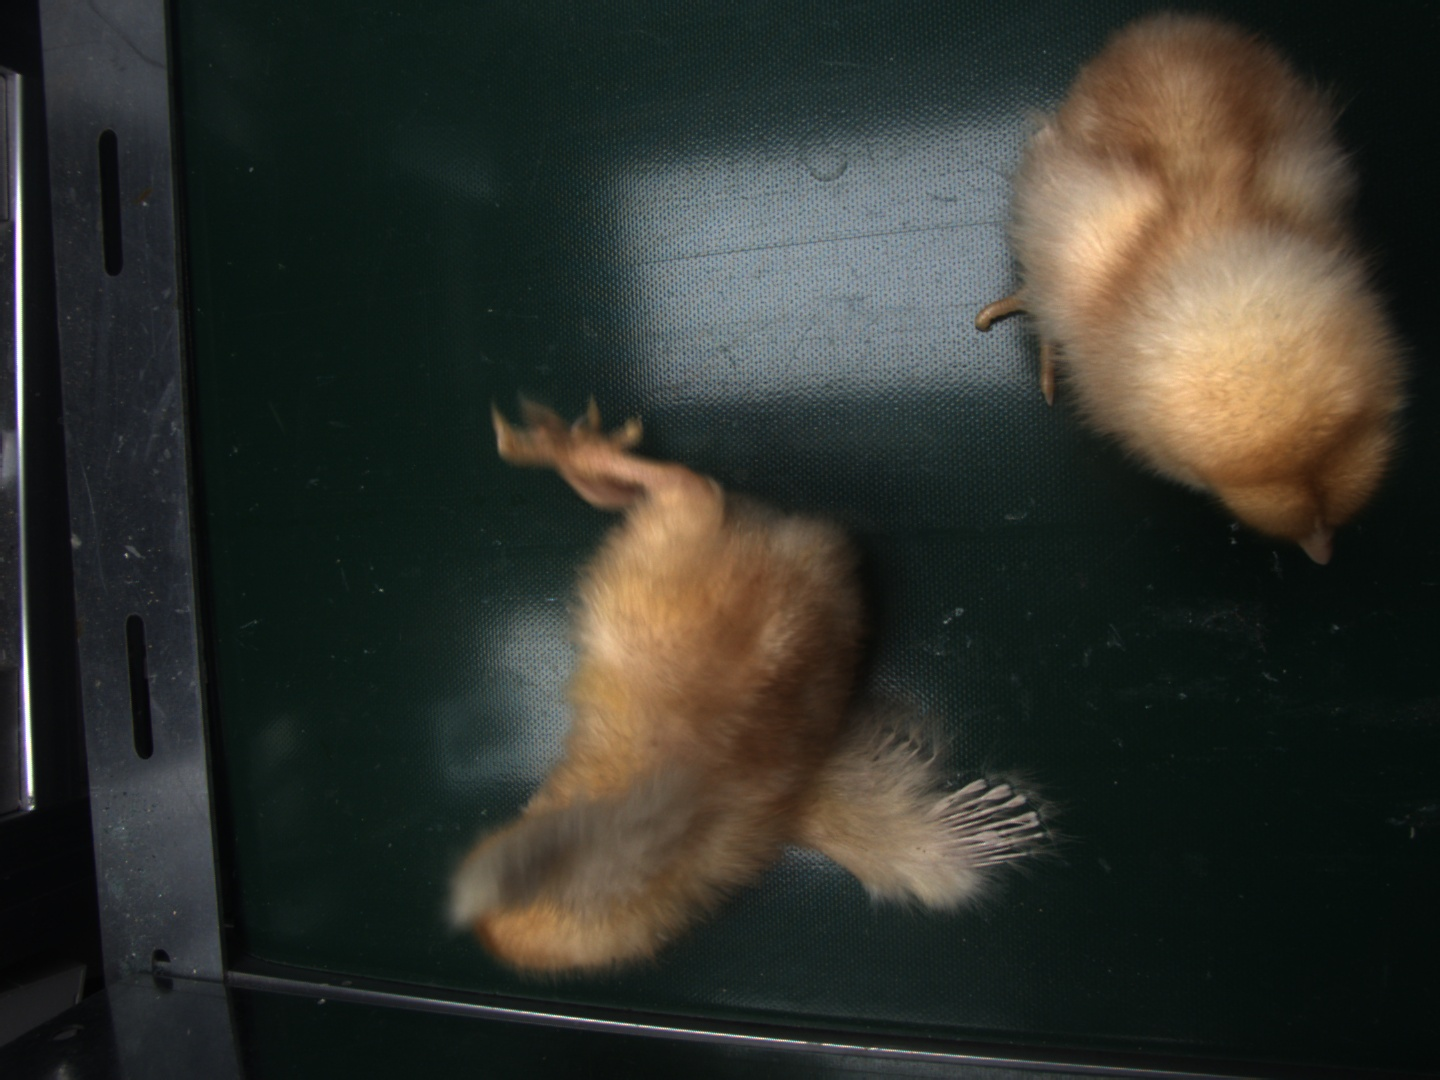female: (937, 783, 1043, 867)
